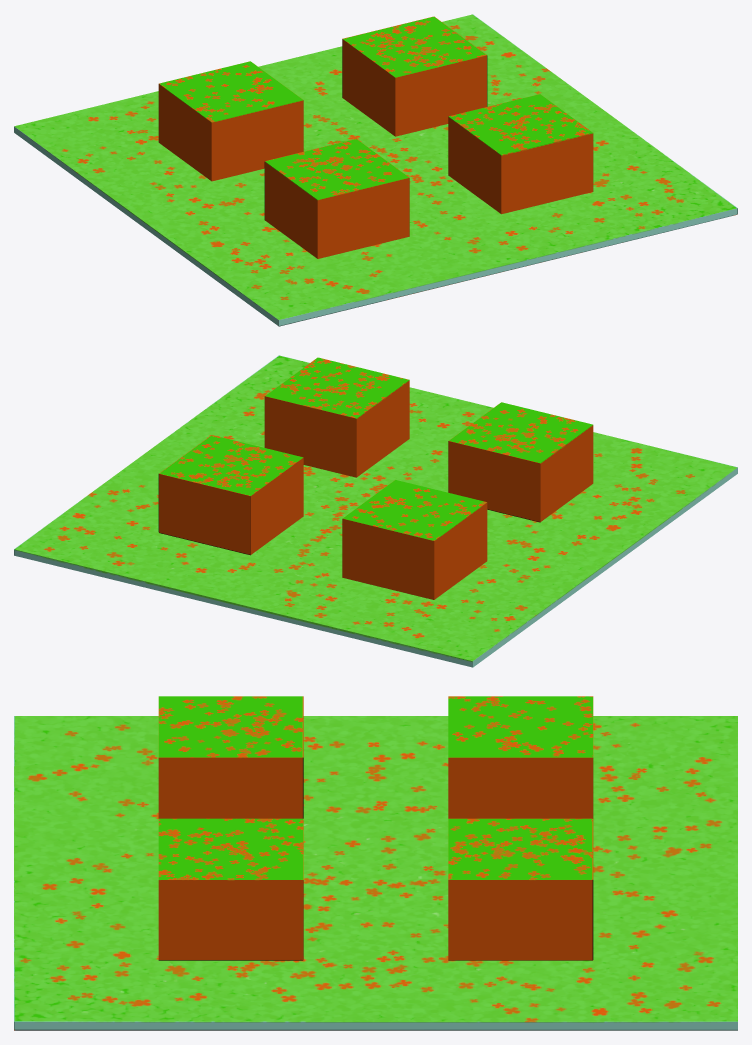
File: firstStage.fbx
3 renders of one model, top to bottom at view 1: azimuth 30°, elevation 25°; view 2: azimuth 150°, elevation 25°; view 3: azimuth 270°, elevation 25°, orthographic. The views are drawn at different scales.
Parts seen in each view (by area): view 1: Cube; view 2: Cube; view 3: Cube.
Boxes of the visible parts, left/top/right/bottom form: Cube: left=14, top=14, right=737, bottom=326; Cube: left=14, top=355, right=737, bottom=667; Cube: left=14, top=696, right=737, bottom=1030.
Bounding box in the file's own units: 1575 × 215 × 1575.
Materials: 1 (1 with a texture image).
